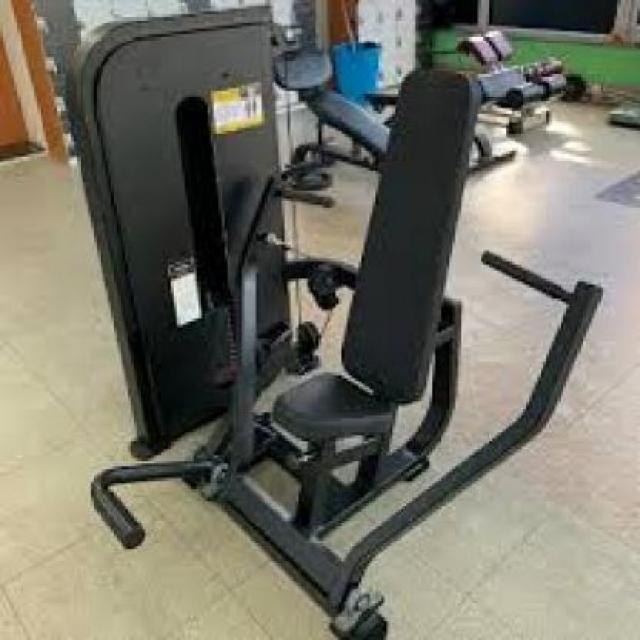Chest Press machine: (66, 1, 607, 640)
